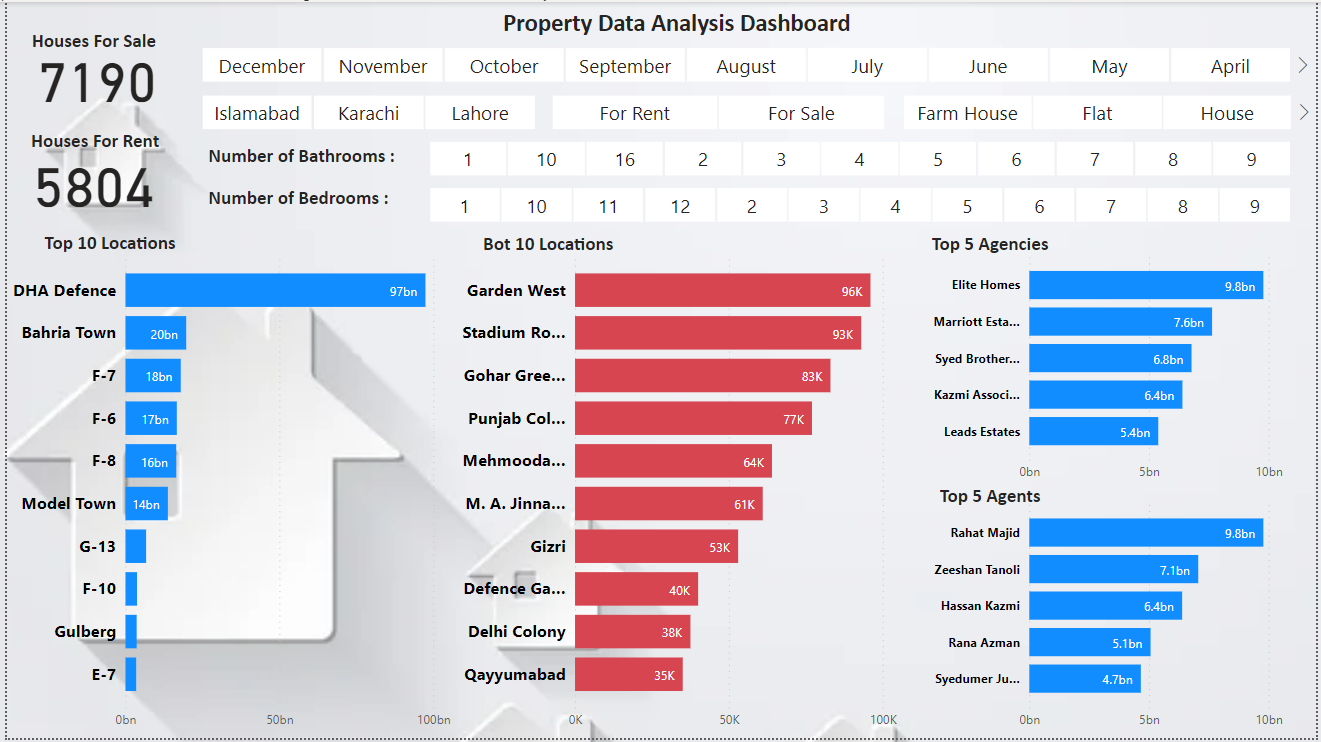

The dashboard page shown, as its layout file describes it:
{"tool":"powerbi","page":{"name":"Page 1","canvas":[1280,720],"ordinal":0},"visuals":[{"type":"clusteredBarChart","fields":{"Category":["Sheet1.location"],"Y":["Sheet1.price"]},"box":[0,236.5,463.3,484],"z":0},{"type":"slicer","fields":{"Values":["Sheet1.date_added.Variation.Date Hierarchy.Month"]},"box":[165.4,38.5,1113.6,45.4],"z":1000},{"type":"slicer","fields":{"Values":["Sheet1.baths"]},"box":[388.1,129.2,890.9,45.4],"z":2000},{"type":"slicer","fields":{"Values":["Sheet1.city"]},"box":[165,84.3,375.3,45.2],"z":3000},{"type":"slicer","fields":{"Values":["Sheet1.bedrooms"]},"box":[388.1,174.6,890.9,45.4],"z":4000},{"type":"slicer","fields":{"Values":["Sheet1.purpose"]},"box":[507.3,84.3,374.1,45.2],"z":5000},{"type":"textbox","box":[191.5,134.7,218.6,39.9],"z":6000},{"type":"textbox","box":[191.5,174.6,196.6,45.4],"z":7000},{"type":"textbox","box":[464.5,0,386.3,42.8],"z":8000},{"type":"clusteredBarChart","fields":{"Category":["Sheet1.location"],"Y":["Sheet1.price"]},"box":[426.2,236.5,463.3,484],"z":9000},{"type":"card","fields":{"Values":["Measures (2).total_sale"]},"box":[18.3,37.9,139.4,68.5],"z":10000},{"type":"card","fields":{"Values":["Measures (2).total_rent"]},"box":[9.8,143,147.9,63.6],"z":11000},{"type":"clusteredBarChart","fields":{"Y":["Sheet1.price"],"Category":["Sheet1.agency"]},"box":[889.5,236.5,389.1,242],"z":12000},{"type":"clusteredBarChart","fields":{"Y":["Sheet1.price"],"Category":["Sheet1.agent"]},"box":[889.5,478.5,389.1,242],"z":13000},{"type":"textbox","box":[13.4,22,143,35.4],"z":14000},{"type":"textbox","box":[6.1,119.8,160.1,35.4],"z":15000},{"type":"textbox","box":[9.8,218.8,182.1,35.4],"z":16000},{"type":"textbox","box":[443.7,220,171.1,35.4],"z":17000},{"type":"textbox","box":[889.9,220,143,35.4],"z":18000},{"type":"textbox","box":[889.9,467,143,35.4],"z":19000},{"type":"slicer","fields":{"Values":["Sheet1.type"]},"box":[850.8,84.3,429.1,45.2],"z":20000}]}

Visuals, with their boxes in screenshot pixels (x1, y1, x2, y2), scaled from the page's 1280x720 canvas onto the 1321x742 screenshot:
clusteredBarChart - Sheet1.location x Sheet1.price: locate(0, 244, 478, 741)
slicer - Sheet1.date_added.Variation.Date Hierarchy.Month: locate(171, 40, 1320, 86)
slicer - Sheet1.baths: locate(401, 133, 1320, 180)
slicer - Sheet1.city: locate(170, 87, 558, 133)
slicer - Sheet1.bedrooms: locate(401, 180, 1320, 227)
slicer - Sheet1.purpose: locate(524, 87, 910, 133)
textbox: locate(198, 139, 423, 180)
textbox: locate(198, 180, 401, 227)
textbox: locate(479, 0, 878, 44)
clusteredBarChart - Sheet1.location x Sheet1.price: locate(440, 244, 918, 741)
card - Measures (2).total_sale: locate(19, 39, 163, 110)
card - Measures (2).total_rent: locate(10, 147, 163, 213)
clusteredBarChart - Sheet1.price x Sheet1.agency: locate(918, 244, 1320, 493)
clusteredBarChart - Sheet1.price x Sheet1.agent: locate(918, 493, 1320, 741)
textbox: locate(14, 23, 161, 59)
textbox: locate(6, 123, 172, 160)
textbox: locate(10, 225, 198, 262)
textbox: locate(458, 227, 634, 263)
textbox: locate(918, 227, 1066, 263)
textbox: locate(918, 481, 1066, 518)
slicer - Sheet1.type: locate(878, 87, 1320, 133)
